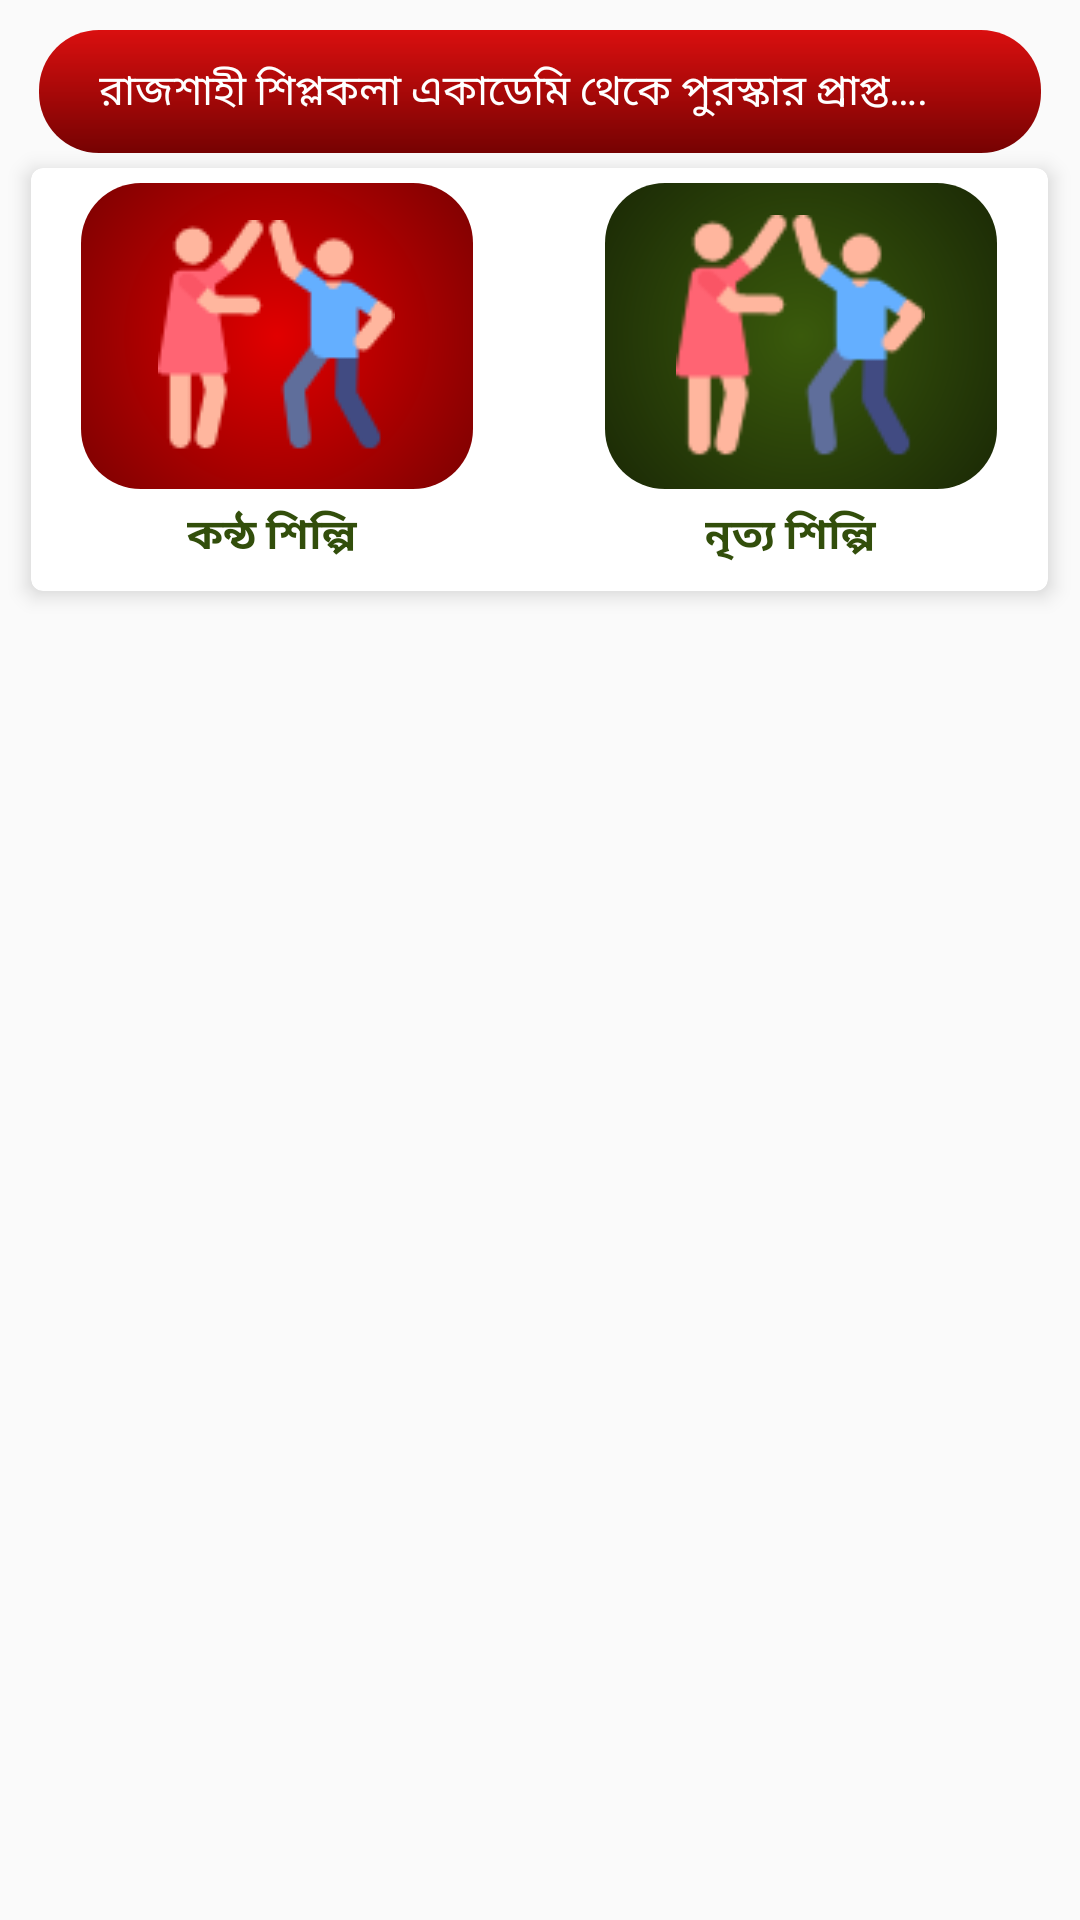

Icon click points for this 1080px x 1920px phone screenshot, format (x=x, y=y):
couple: (x=800, y=335), (x=276, y=334)
